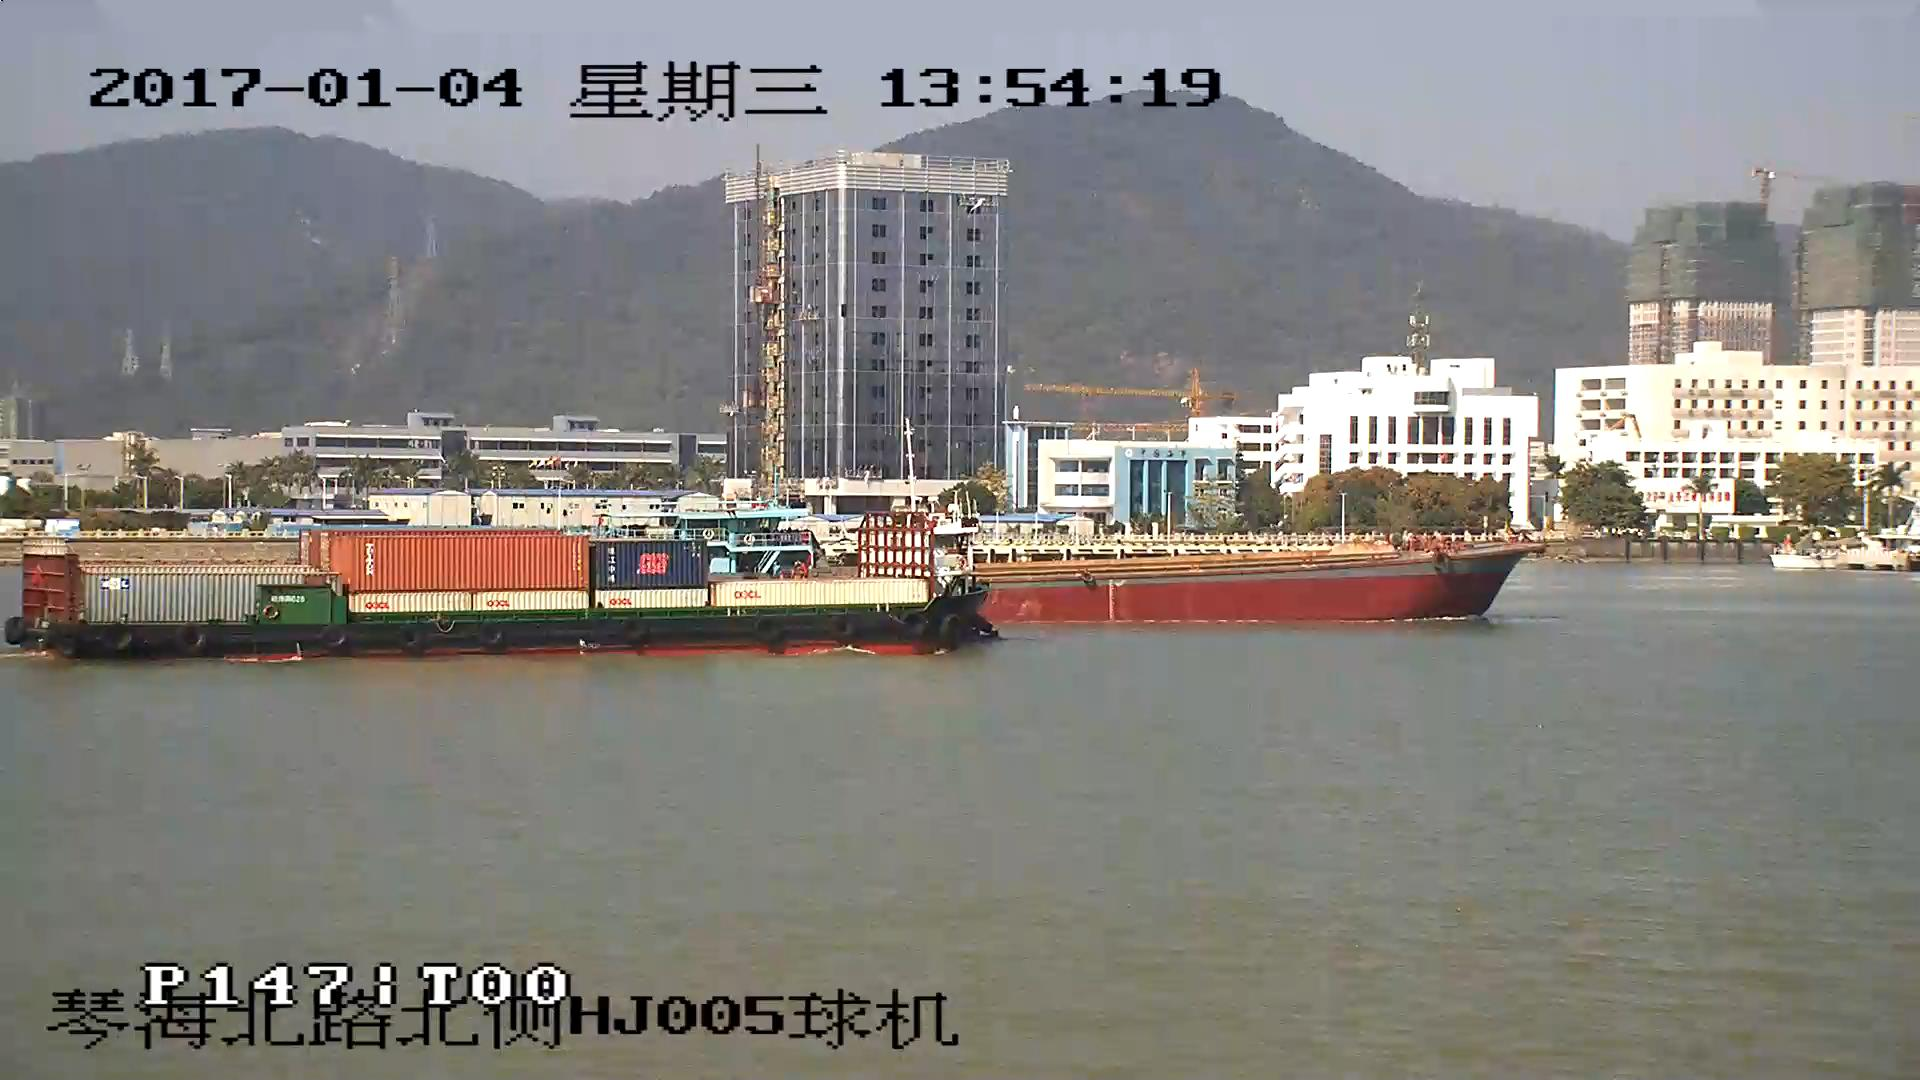bulk cargo carrier: (995, 538, 1544, 619)
container ship: (8, 510, 996, 661)
